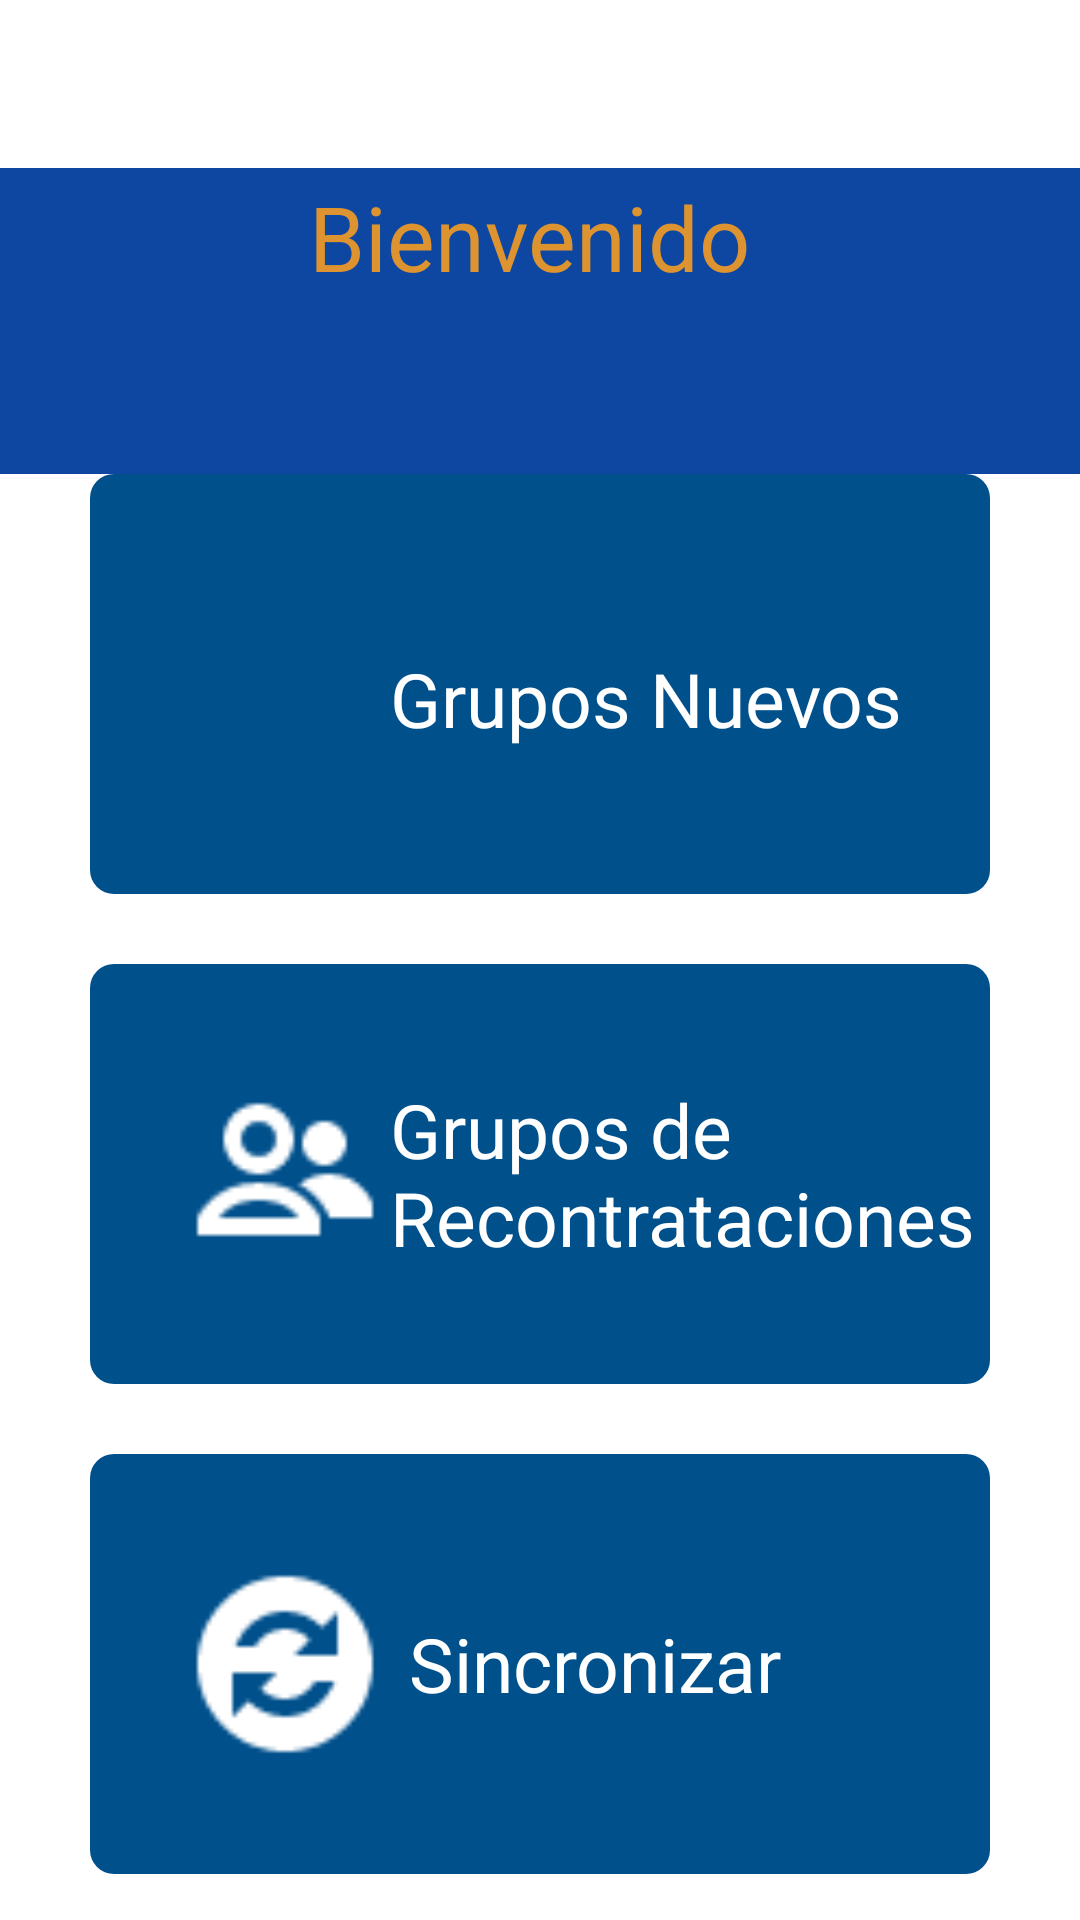

Named icons in this screenshot (1080x1920) and their bounding boxes, (x1=x1, y1=y1, x2=x2, y2=y2):
iconrecontratacion: (x1=196, y1=1102, x2=374, y2=1237)
iconsincronizacion: (x1=196, y1=1575, x2=374, y2=1753)
